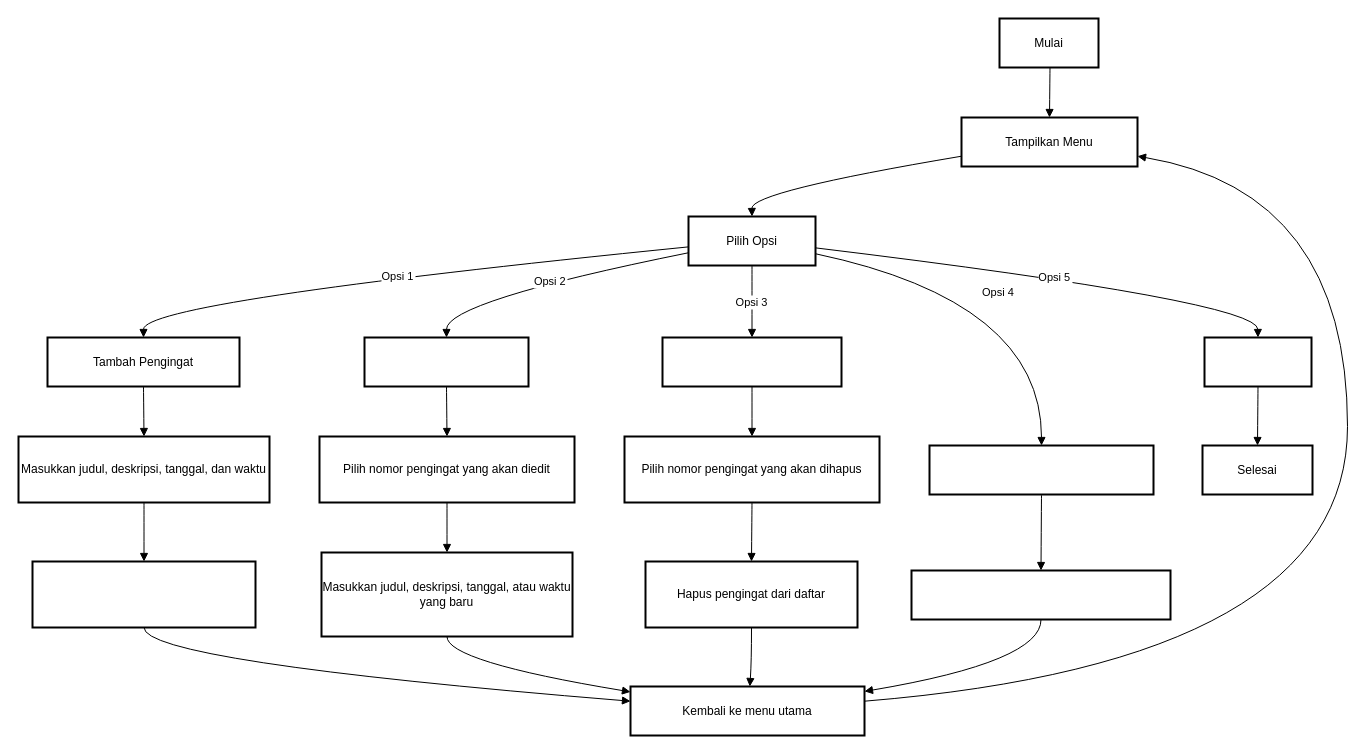
Some shapes in this 1365 by 753 pixel diagram are drawn without their labels. Here are the shapes that lost their labels. From the top down, the centre of each, then its label:
(446,361): Edit Pengingat
(751,361): Hapus Pengingat
(1257,361): Keluar
(1041,469): Lihat Semua Pengingat
(143,594): Simpan dan konfirmasi pengingat
(1040,594): Tampilkan daftar pengingat
